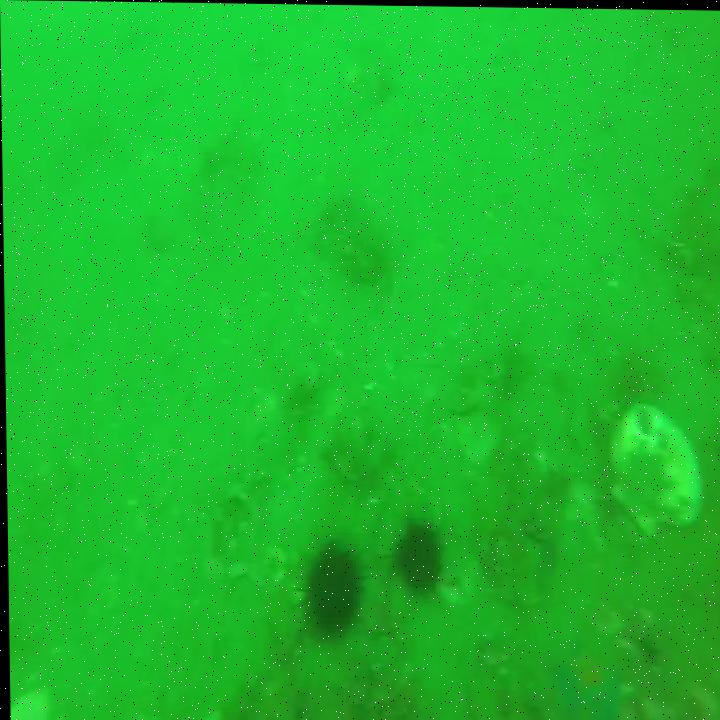echinus: (290, 551, 368, 651), (394, 526, 438, 599)
scallop: (603, 405, 703, 533)
